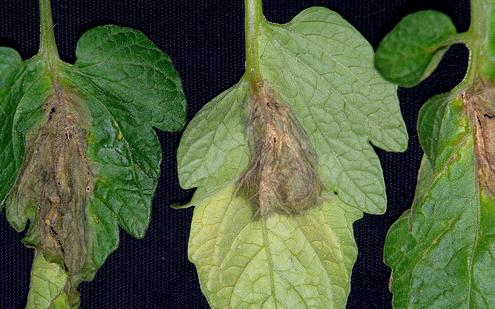Tomato mold leaf: (181, 0, 407, 309), (0, 0, 170, 309), (383, 0, 495, 309)
